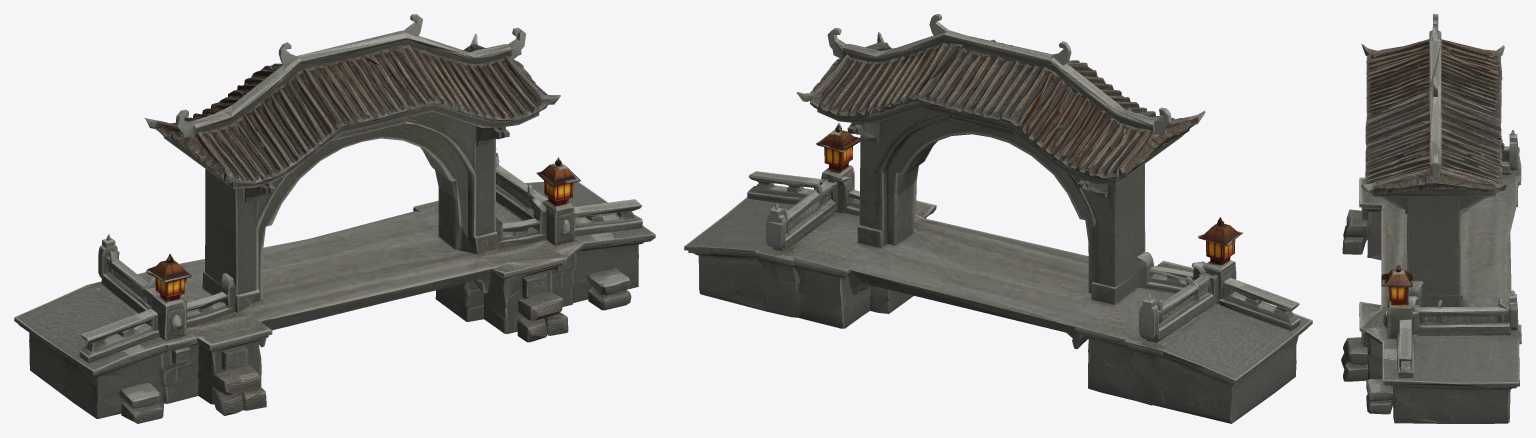
File: bridge_arch.glb
The picture shows the model from 3 angles, left to right: view 1: azimuth 30°, elevation 25°; view 2: azimuth 150°, elevation 25°; view 3: azimuth 270°, elevation 25°; orthographic projection. The views are drawn at different scales.
Size of the model in its own units: 1.9 by 0.9898 by 0.6111.
1 material, 1 textured.
